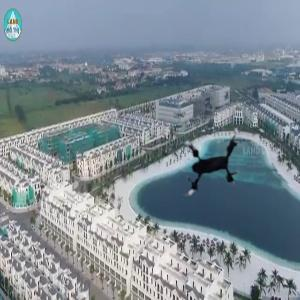drone: (159, 110, 258, 209)
